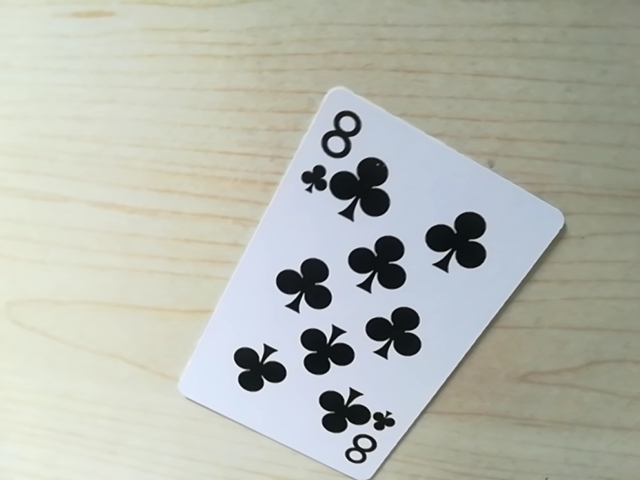mh 8: (301, 95, 374, 192), (333, 422, 395, 474)
